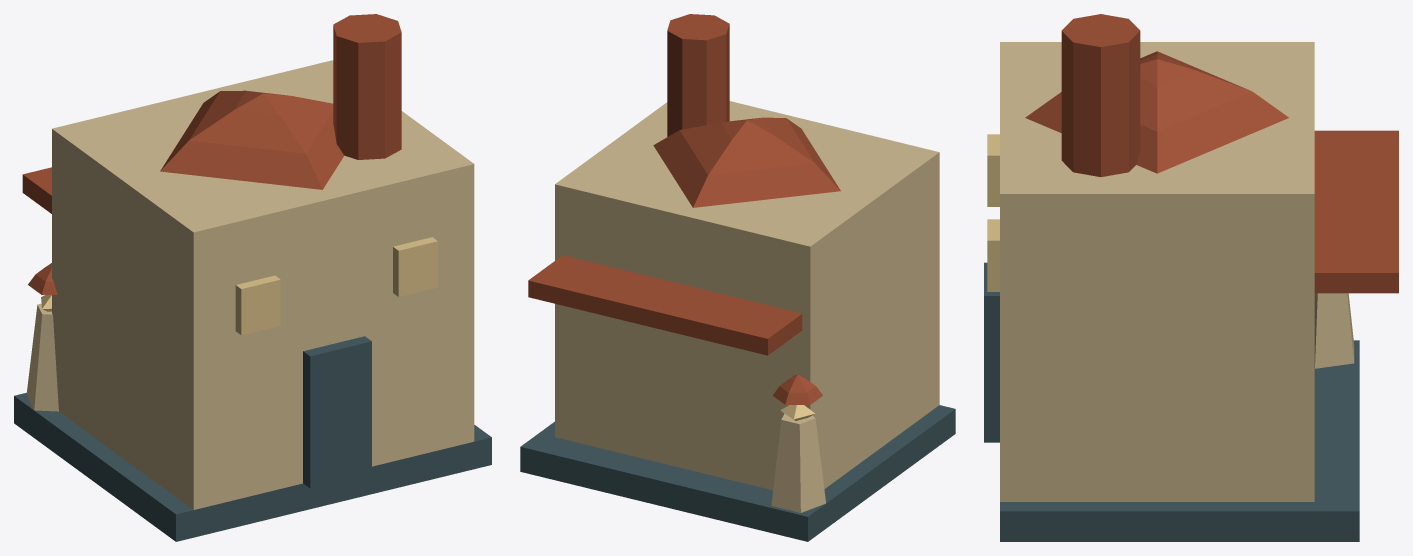
The model's file is galley.gltf.
The picture shows the model from 3 angles, left to right: view 1: azimuth 30°, elevation 25°; view 2: azimuth 150°, elevation 25°; view 3: azimuth 270°, elevation 25°; orthographic projection. The views are drawn at different scales.
Parts seen in each view (by area): view 1: house, floor, chimney, lamp, awning; view 2: house, floor, awning, chimney, lamp; view 3: house, floor, awning, chimney, lamp.
Boxes of the visible parts, box(x1,y1,x2,y2) form: house: box(52, 60, 474, 509); floor: box(14, 393, 491, 541); chimney: box(333, 14, 401, 159); lamp: box(26, 263, 58, 411); awning: box(22, 167, 51, 213); house: box(555, 101, 939, 490); floor: box(520, 405, 955, 541); awning: box(528, 255, 802, 355); chimney: box(667, 14, 729, 136); lamp: box(771, 374, 825, 512); house: box(984, 42, 1314, 501); floor: box(1000, 340, 1359, 541); awning: box(1314, 130, 1398, 293); chimney: box(1061, 14, 1140, 176); lamp: box(1314, 293, 1354, 368).
Bounding box in the file's own units: 3.6 × 4.6 × 3.69.
